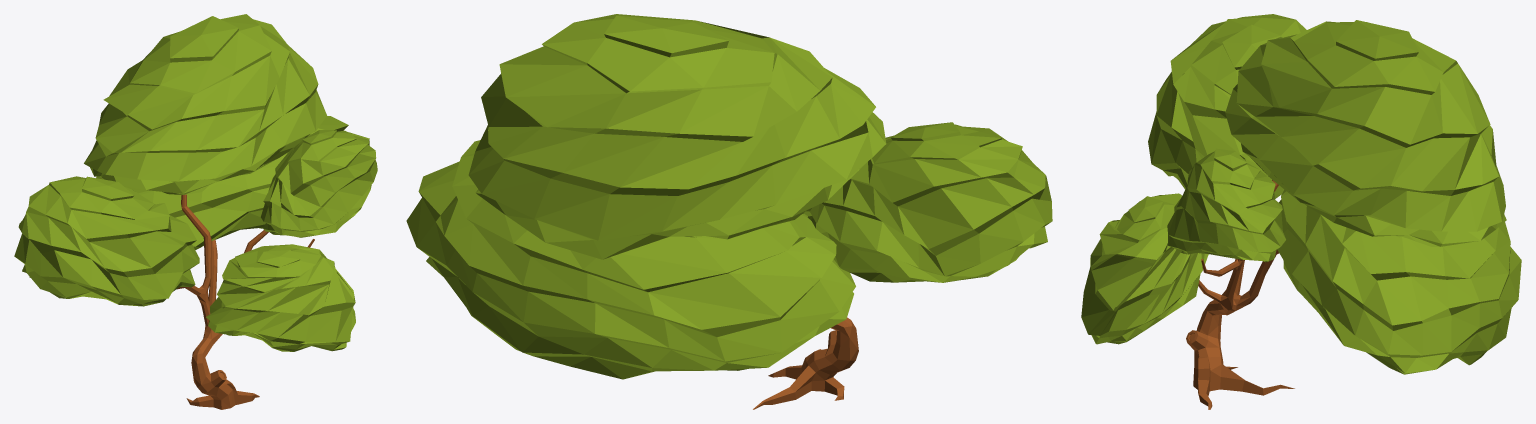
The model's file is TreeModel1.fbx.
The picture shows the model from 3 angles, left to right: view 1: azimuth 30°, elevation 25°; view 2: azimuth 150°, elevation 25°; view 3: azimuth 270°, elevation 25°; orthographic projection. The views are drawn at different scales.
Visible parts, largest first — view 1: LeavesTree, Treetrunk; view 2: LeavesTree, Treetrunk; view 3: LeavesTree, Treetrunk.
Part boxes in pixels (bbox=[...]): LeavesTree: bbox=[14, 14, 377, 351]; Treetrunk: bbox=[177, 194, 314, 409]; LeavesTree: bbox=[406, 14, 1052, 379]; Treetrunk: bbox=[753, 317, 858, 409]; LeavesTree: bbox=[1081, 14, 1521, 374]; Treetrunk: bbox=[1186, 180, 1294, 409].
Bounding box in the file's own units: 21.28 × 15.45 × 16.2.
